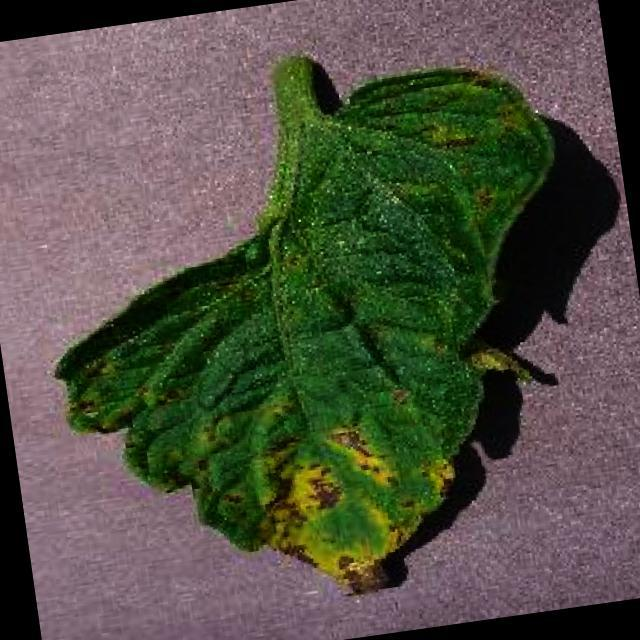Tomato Septoria spot leaf: (18, 56, 610, 634)
